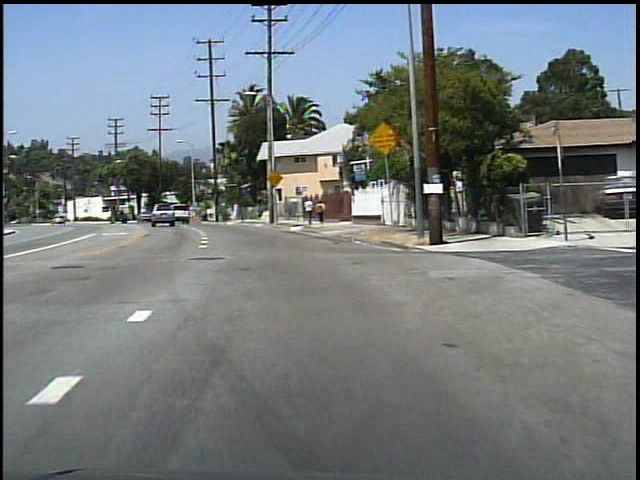person: (302, 196, 315, 226), (314, 198, 327, 226)
